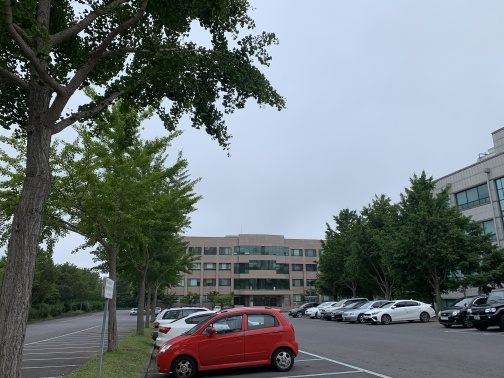Joint Experimental Labs: (168, 235, 330, 315)
Second Library: (419, 118, 504, 246)
